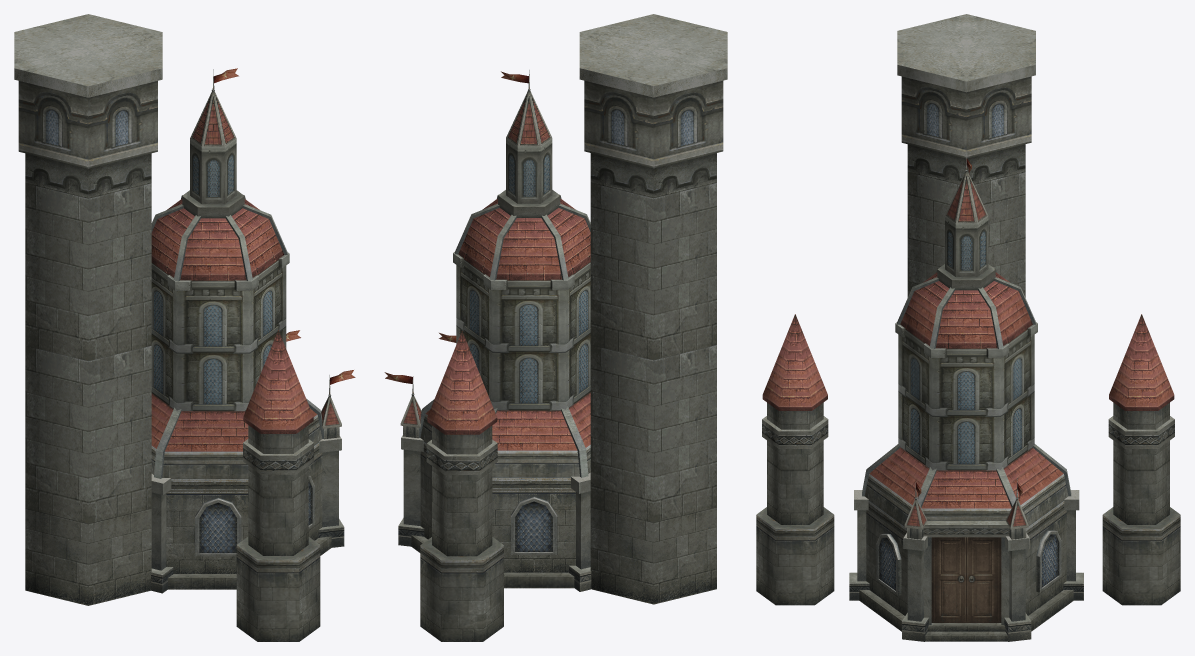
Rendered from SC_guowangchengbao_30.FBX.
3 views of the same model, side by side, from view 1: azimuth 30°, elevation 25°; view 2: azimuth 150°, elevation 25°; view 3: azimuth 270°, elevation 25° (orthographic). The views are drawn at different scales.
Visible parts, largest first — view 1: SC_guowangchengbao_30; view 2: SC_guowangchengbao_30; view 3: SC_guowangchengbao_30.
Part boxes in pixels (left/top/right/bottom): SC_guowangchengbao_30: left=14, top=14, right=355, bottom=641; SC_guowangchengbao_30: left=384, top=14, right=727, bottom=641; SC_guowangchengbao_30: left=756, top=14, right=1180, bottom=641.
Size of the model in its own units: 1048 by 1692 by 1306.
